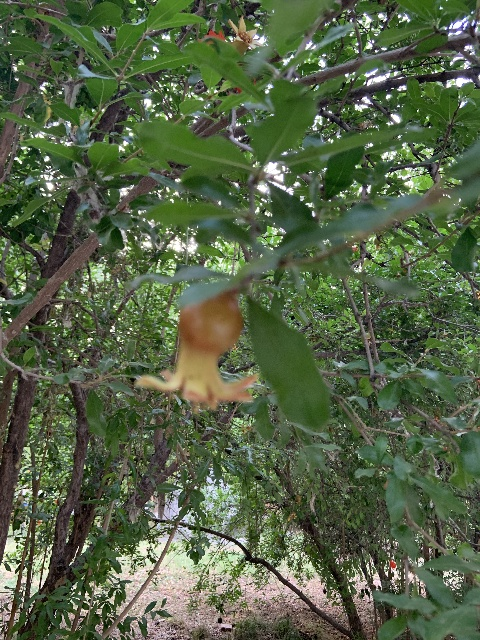early-fruit: (133, 288, 257, 411), (226, 15, 261, 56)
flower: (390, 560, 396, 569)
mid-growth: (373, 236, 382, 250)
